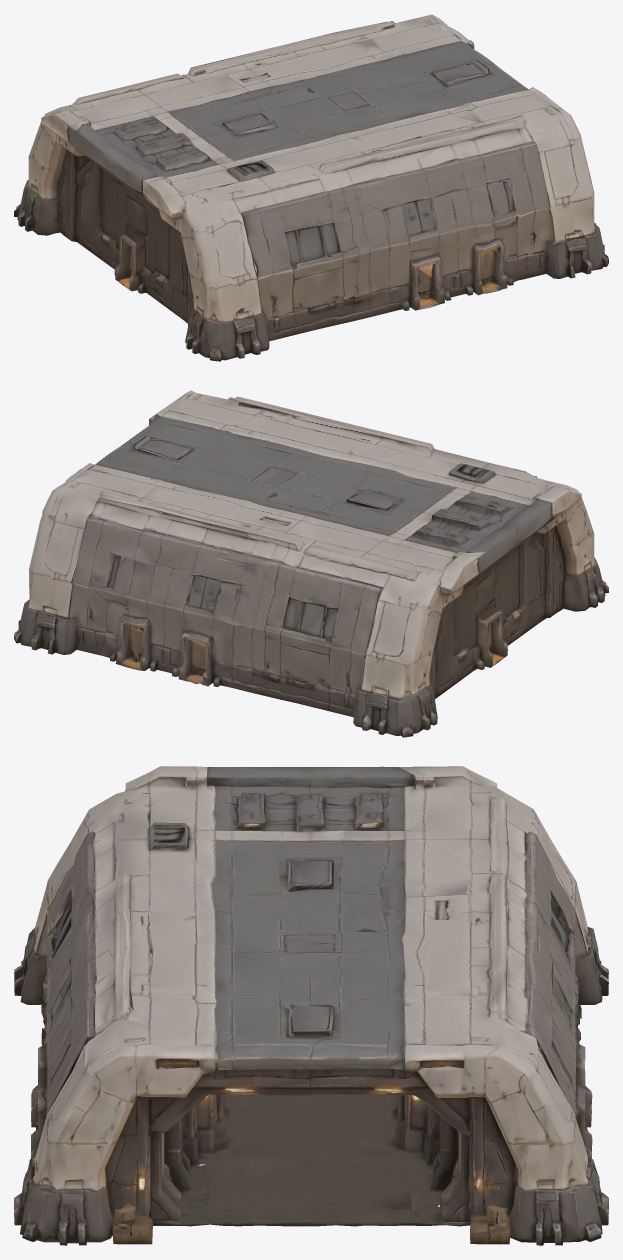
The model's file is armouredHangar.glb.
3 views of the same model, one above another, from view 1: azimuth 30°, elevation 25°; view 2: azimuth 150°, elevation 25°; view 3: azimuth 270°, elevation 25° (orthographic). The views are drawn at different scales.
Parts seen in each view (by area): view 1: armouredHangar; view 2: armouredHangar; view 3: armouredHangar.
Part boxes in pixels (box(x1,y1,x2,y2)): armouredHangar: box(14, 14, 608, 361); armouredHangar: box(14, 390, 608, 737); armouredHangar: box(14, 766, 608, 1245).
Size of the model in its own units: 34 by 11 by 30.
1 material, 1 textured.
